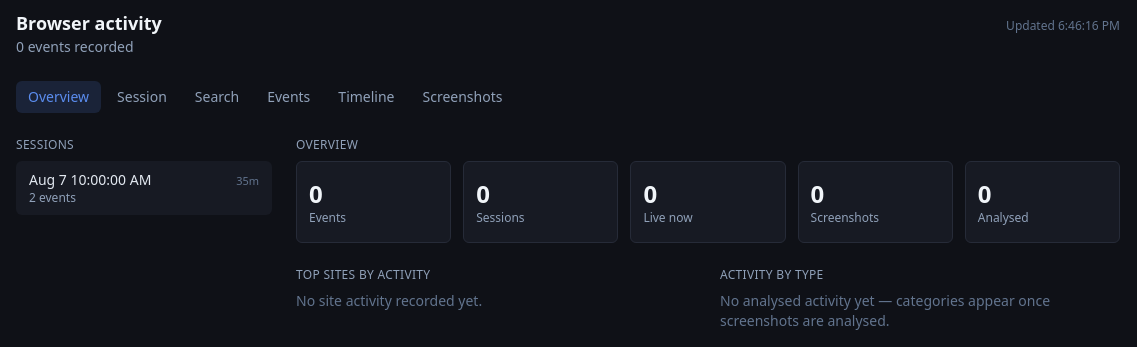
screenshots view › explains when nothing has been captured
This screenshot has width=1137, height=347.
Check: the text "0 events recorded" is shown, box [16,37,134,56]
Click the button "Screenshots". click: [462, 97]
box: [410,81,514,113]
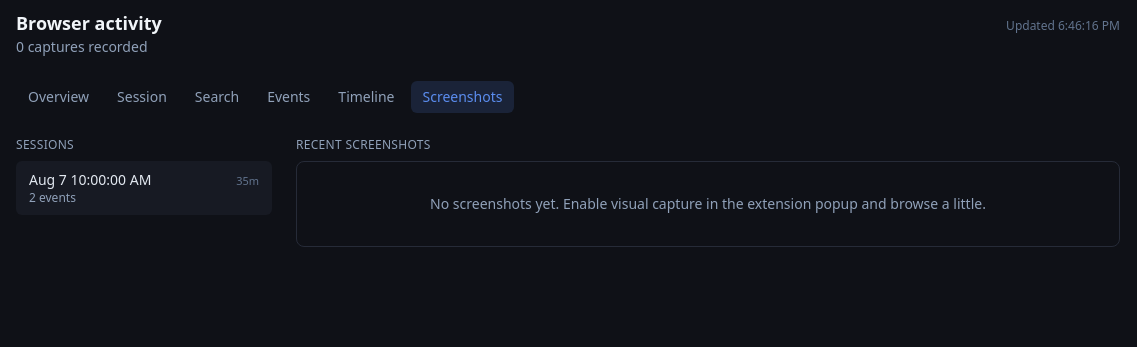
Check: the text "No screenshots yet" is shown, box [430,194,986,213]
